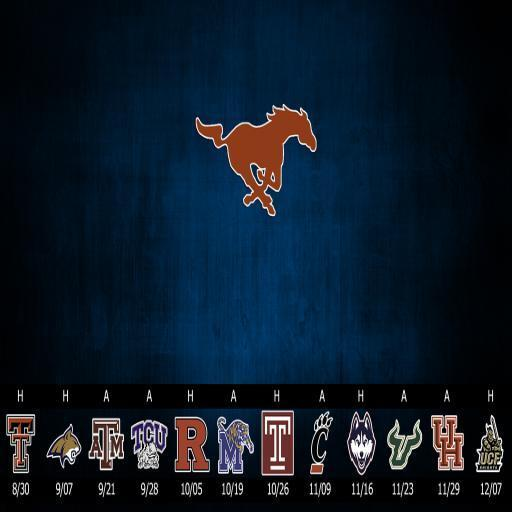horse: (192, 100, 318, 217)
